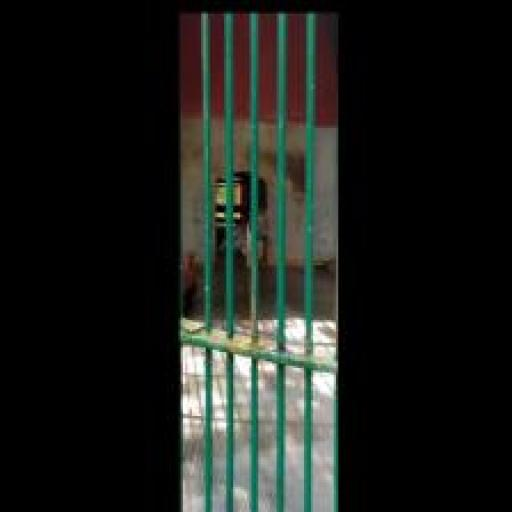Tiger: (215, 201, 274, 276)
